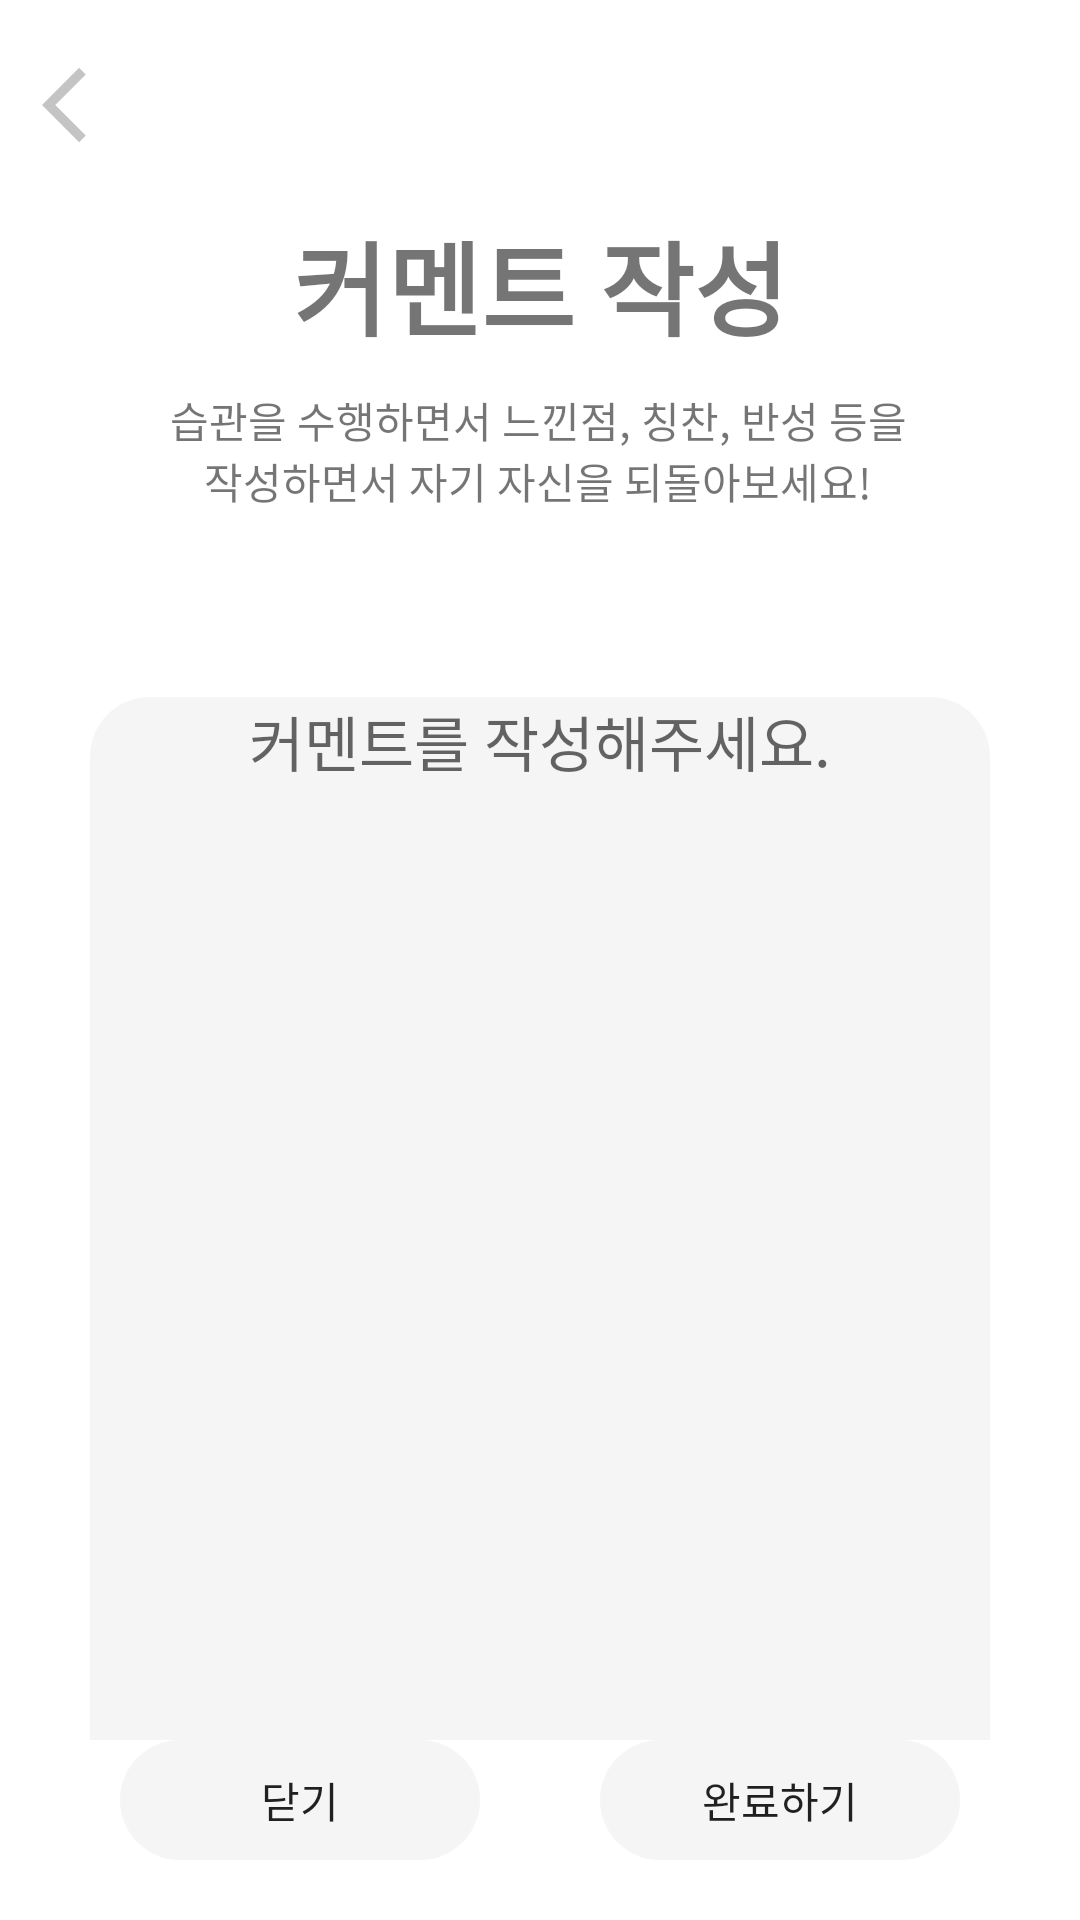

Point at icon controls on the screen. Image size 1080 x 1920, points as (x,y).
back: (64,105)
